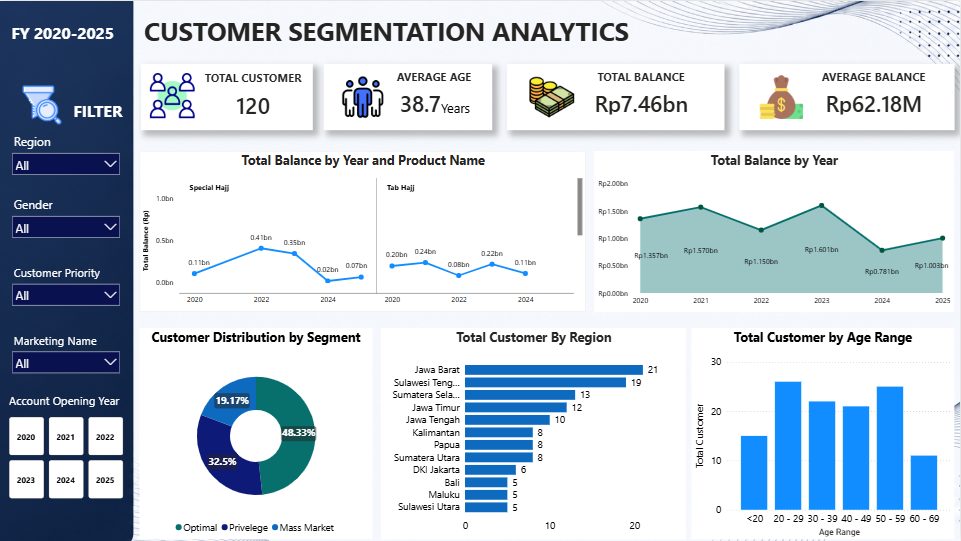

Layout of this report page (visuals, bound fields, positions):
{"tool":"powerbi","page":{"name":"Page 1","canvas":[1600,900],"ordinal":0},"visuals":[{"type":"shape","box":[234,106,286,110],"z":0},{"type":"stackedAreaChart","title":"Total Balance by Year","fields":{"Category":["Dataset.Date_Acc_Open.Variation.Date Hierarchy.Year"],"Y":["Sum(Dataset.Total Balance)"]},"box":[990,250,600,268],"z":1000},{"type":"lineChart","title":"Total Balance by Year and Product Name","fields":{"Y":["Sum(Dataset.Total Balance)"],"Category":["Dataset.Date_Acc_Open.Variation.Date Hierarchy.Year"],"Rows":["Dataset.Product Name"]},"box":[232,250,744,268],"z":2000},{"type":"donutChart","title":"Customer Distribution by Segment","fields":{"Category":["Dataset.Customer Segment"],"Y":["CountNonNull(Dataset.Customer Segment)"]},"box":[232,546,388,352],"z":3000},{"type":"clusteredBarChart","title":"Total Customer By Region","fields":{"Category":["Dataset.Region"],"Y":["CountNonNull(Dataset.Cust_Name)"]},"box":[634,546,508,352],"z":4000},{"type":"columnChart","title":"Total Customer by Age Range","fields":{"Category":["Dataset.Age Range"],"Y":["CountNonNull(Dataset.Cust_Name)"]},"box":[1152,546,438,352],"z":5000},{"type":"cardVisual","title":"TOTAL CUSTOMER","fields":{"Data":["CountNonNull(Dataset.Cust_Name)"]},"box":[326,114,194,94],"z":6000},{"type":"shape","box":[540,104,280,110],"z":7000},{"type":"shape","box":[846,106,362,110],"z":8000},{"type":"shape","box":[1232,106,358,110],"z":9000},{"type":"cardVisual","title":"AVERAGE AGE","fields":{"Data":["Dataset.Average Usia"]},"box":[638,112,172,94],"z":10000},{"type":"cardVisual","title":"TOTAL BALANCE","fields":{"Data":["Sum(Dataset.Total Balance)"]},"box":[938,112,262,94],"z":11000},{"type":"cardVisual","title":"AVERAGE BALANCE","fields":{"Data":["Dataset.Average Balance"]},"box":[1330,112,252,94],"z":12000},{"type":"slicer","fields":{"Values":["Dataset.Region"]},"box":[10,216,200,80],"z":13000},{"type":"slicer","fields":{"Values":["Dataset.Jenis Kelamin"]},"box":[10,320,200,80],"z":14000},{"type":"slicer","fields":{"Values":["Dataset.Flag"]},"box":[10,434,200,80],"z":15000},{"type":"slicer","fields":{"Values":["Sheet1.Nama RM"]},"box":[10,548,200,80],"z":16000},{"type":"advancedSlicerVisual","title":"Account Opening Year","fields":{"Values":["Dataset.Year Acc Open"]},"box":[10,652,200,182],"z":17000},{"type":"textbox","box":[730,158,122,48],"z":18000},{"type":"textbox","box":[234.1,15.9,834.1,70.5],"z":19000},{"type":"textbox","box":[0,29.5,209.1,45.5],"z":20000},{"type":"textbox","box":[95.5,159.1,136.4,56.8],"z":21000},{"type":"image","box":[38.6,97.7,65.9,152.3],"z":22000},{"type":"image","box":[231.8,120.5,109.1,75],"z":23000},{"type":"image","box":[550,122.7,109.1,75],"z":24000},{"type":"image","box":[865.9,122.7,109.1,75],"z":25000},{"type":"image","box":[1247.7,122.7,109.1,75],"z":26000}]}

Visuals, with their boxes in screenshot pixels (x1, y1, x2, y2), scaled from the page's 1600x900 canvas onto the 961x541 screenshot:
shape: (141, 64, 312, 130)
"Total Balance by Year" stackedAreaChart: (595, 150, 955, 311)
"Total Balance by Year and Product Name" lineChart: (139, 150, 586, 311)
"Customer Distribution by Segment" donutChart: (139, 328, 372, 540)
"Total Customer By Region" clusteredBarChart: (381, 328, 686, 540)
"Total Customer by Age Range" columnChart: (692, 328, 955, 540)
"TOTAL CUSTOMER" cardVisual: (196, 69, 312, 125)
shape: (324, 63, 493, 129)
shape: (508, 64, 726, 130)
shape: (740, 64, 955, 130)
"AVERAGE AGE" cardVisual: (383, 67, 487, 124)
"TOTAL BALANCE" cardVisual: (563, 67, 721, 124)
"AVERAGE BALANCE" cardVisual: (799, 67, 950, 124)
slicer - Dataset.Region: (6, 130, 126, 178)
slicer - Dataset.Jenis Kelamin: (6, 192, 126, 240)
slicer - Dataset.Flag: (6, 261, 126, 309)
slicer - Sheet1.Nama RM: (6, 329, 126, 377)
"Account Opening Year" advancedSlicerVisual: (6, 392, 126, 501)
textbox: (438, 95, 512, 124)
textbox: (141, 10, 642, 52)
textbox: (0, 18, 126, 45)
textbox: (57, 96, 139, 130)
image: (23, 59, 63, 150)
image: (139, 72, 205, 118)
image: (330, 74, 396, 119)
image: (520, 74, 586, 119)
image: (749, 74, 815, 119)
